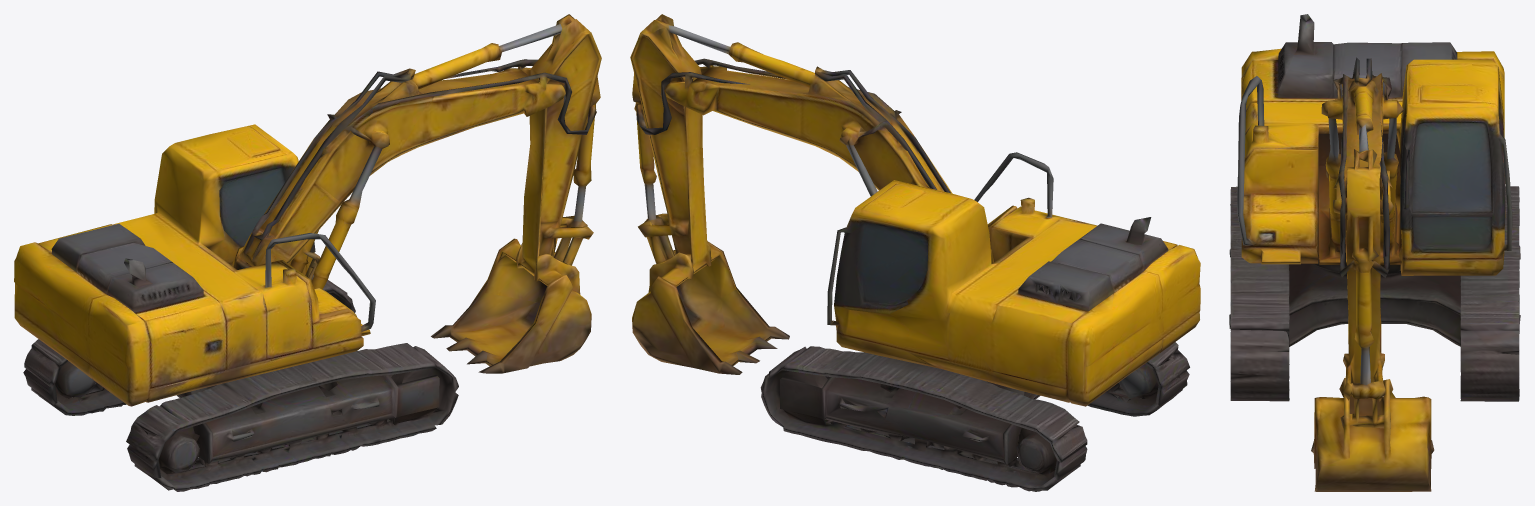
The model's file is digger_excavator.glb.
The picture shows the model from 3 angles, left to right: view 1: azimuth 30°, elevation 25°; view 2: azimuth 150°, elevation 25°; view 3: azimuth 270°, elevation 25°; orthographic projection. The views are drawn at different scales.
Visible parts, largest first — view 1: tripo_node_d303e2a9-7797-4ab3-910f-237d064e3c26; view 2: tripo_node_d303e2a9-7797-4ab3-910f-237d064e3c26; view 3: tripo_node_d303e2a9-7797-4ab3-910f-237d064e3c26.
Boxes of the visible parts, box(x1,y1,x2,y2) form: tripo_node_d303e2a9-7797-4ab3-910f-237d064e3c26: box(14, 14, 601, 491); tripo_node_d303e2a9-7797-4ab3-910f-237d064e3c26: box(630, 14, 1200, 491); tripo_node_d303e2a9-7797-4ab3-910f-237d064e3c26: box(1229, 14, 1520, 491).
Size of the model in its own units: 1 by 0.5931 by 0.4356.
1 material, 1 textured.
